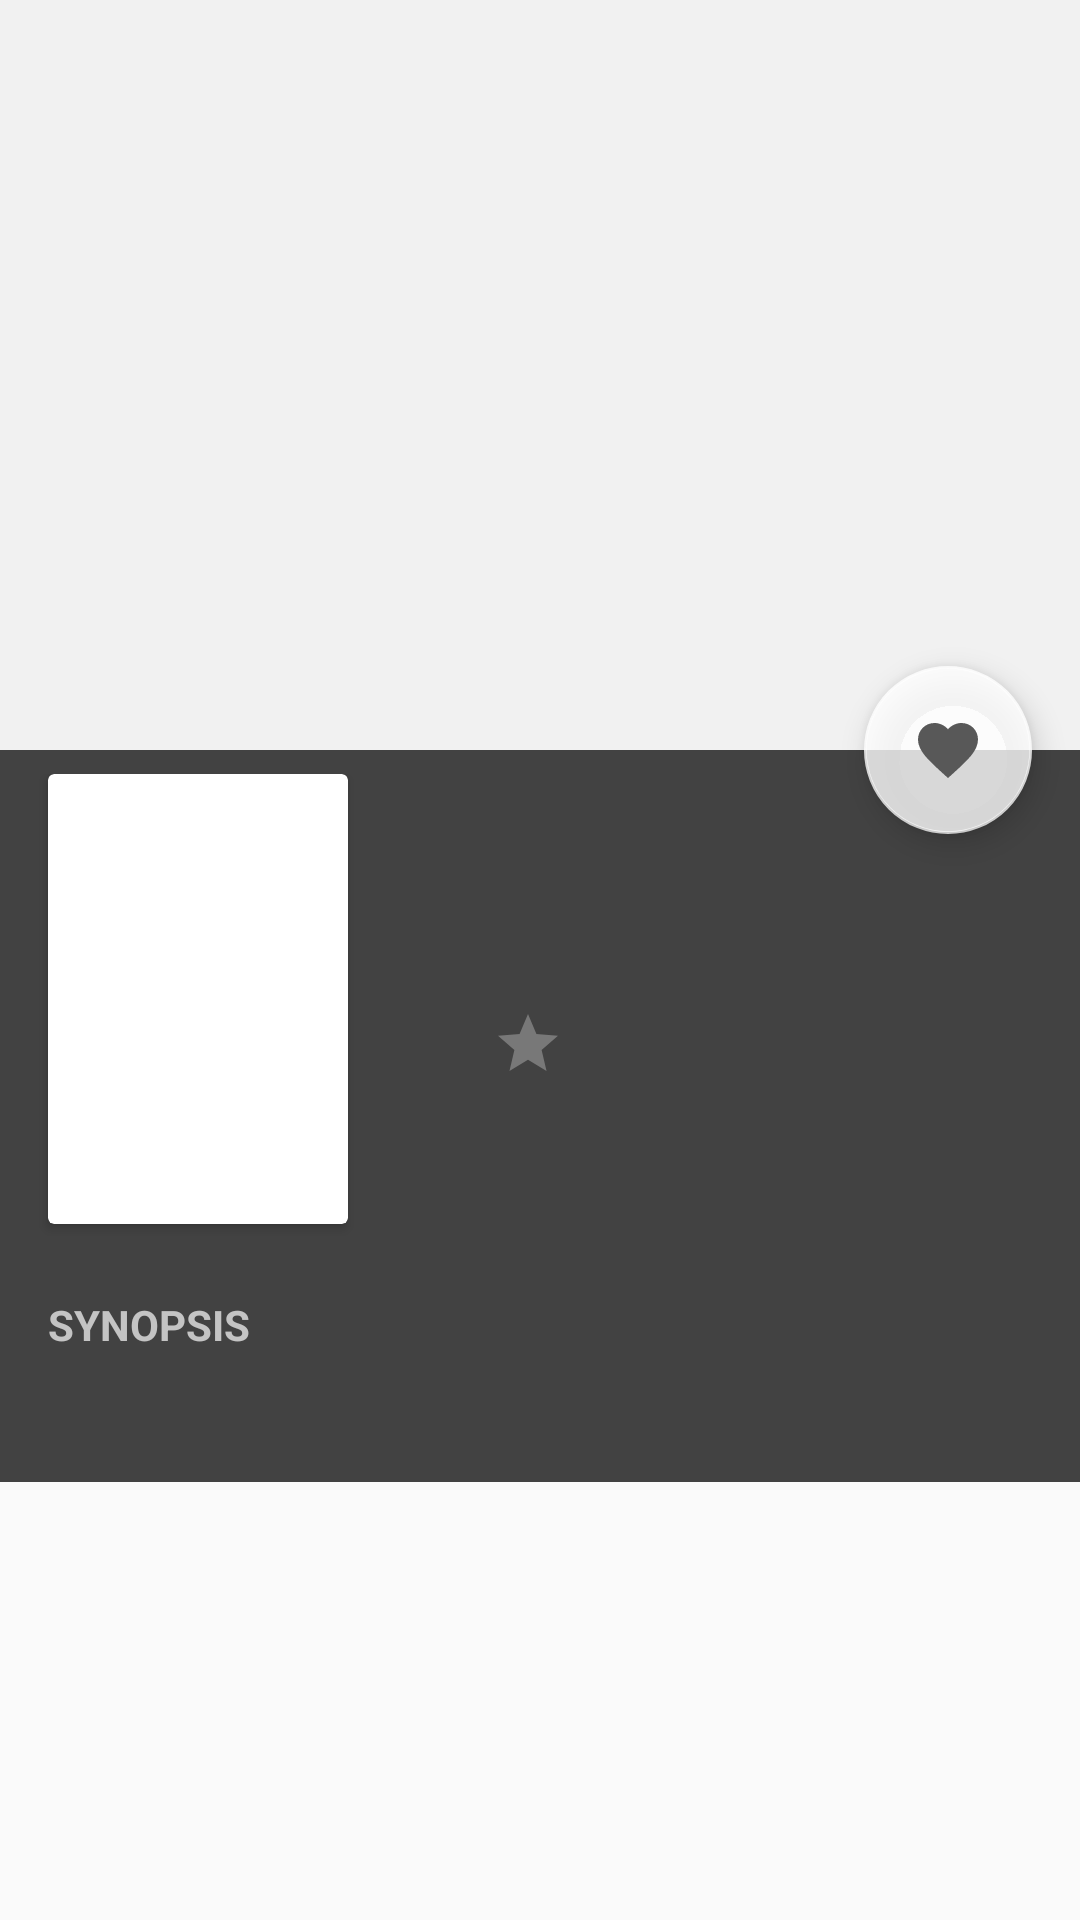

Screen size 1080px×1920px. Icon name, then its center in pixels as [x,y]:
fav: [948,750]
rate: [528,1042]
